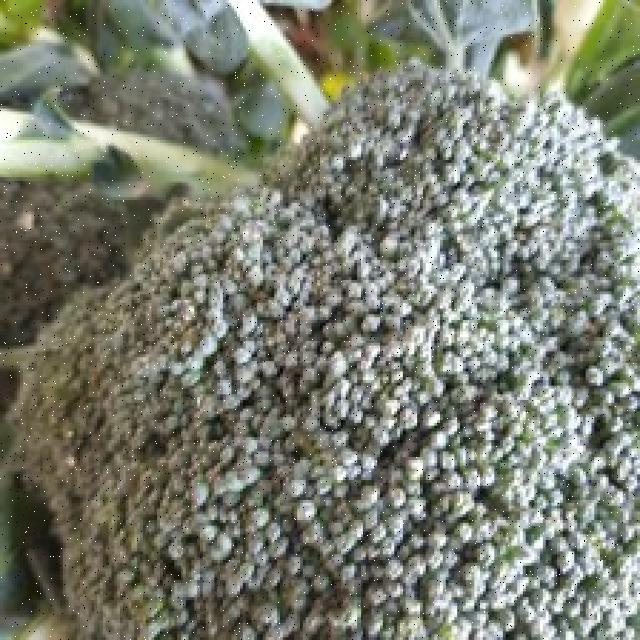Broccoli: (10, 65, 640, 640), (11, 65, 640, 640)
